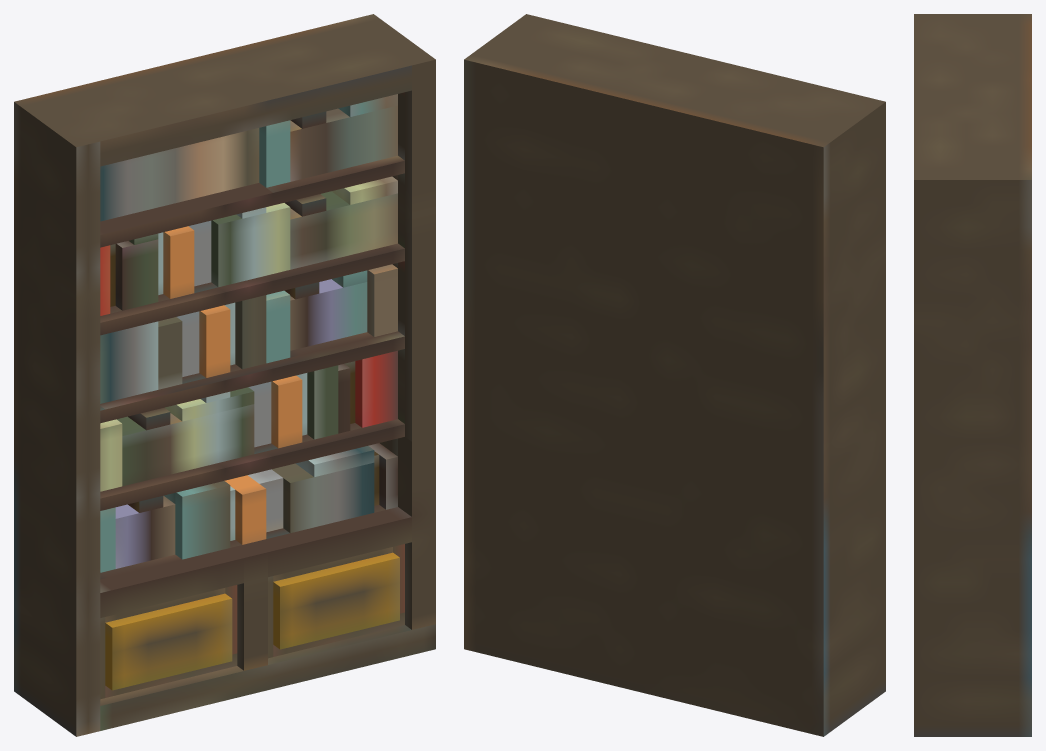
The model's file is BookhshelfBrown_02.obj.
3 views of the same model, side by side, from view 1: azimuth 30°, elevation 25°; view 2: azimuth 150°, elevation 25°; view 3: azimuth 270°, elevation 25° (orthographic). The views are drawn at different scales.
Parts seen in each view (by area): view 1: BookhshelfBrown_02; view 2: BookhshelfBrown_02; view 3: BookhshelfBrown_02.
Boxes of the visible parts, <box> form: BookhshelfBrown_02: <box>14,14,435,736</box>; BookhshelfBrown_02: <box>464,14,885,736</box>; BookhshelfBrown_02: <box>914,14,1031,736</box>.
Bounding box in the file's own units: 1.5 × 2.35 × 0.45.
